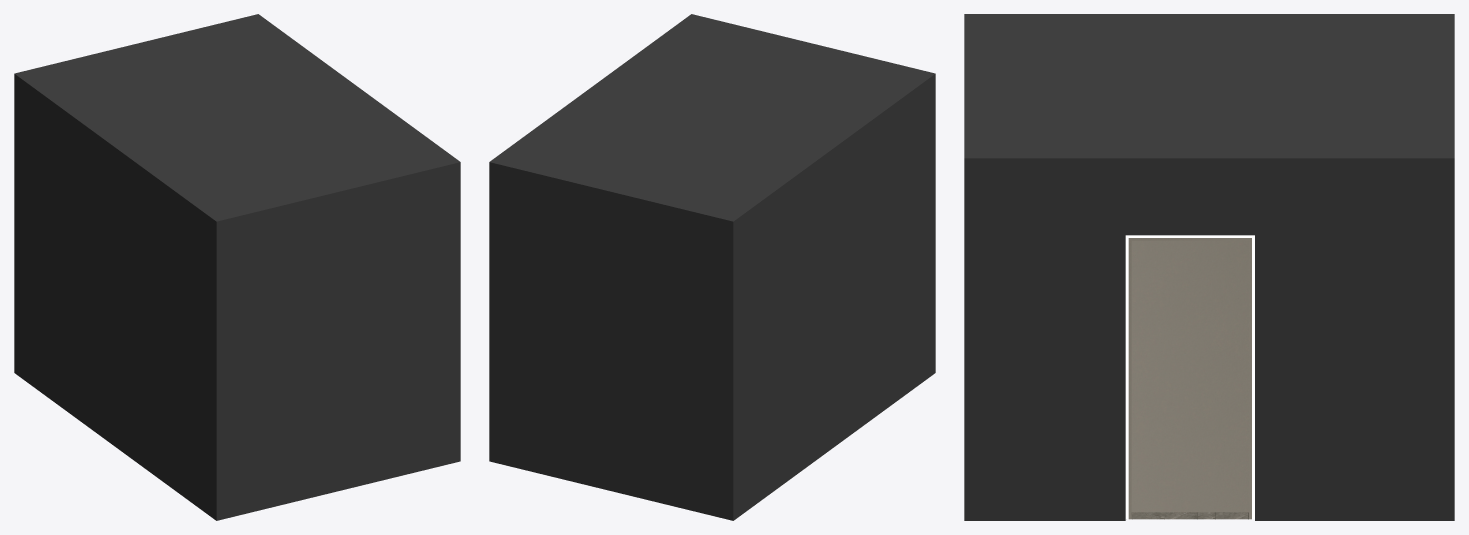
The model's file is bathroom_interior.glb.
3 views of the same model, side by side, from view 1: azimuth 30°, elevation 25°; view 2: azimuth 150°, elevation 25°; view 3: azimuth 270°, elevation 25° (orthographic). The views are drawn at different scales.
Visible parts, largest first — view 1: Material2 (×2); view 2: Material2 (×2); view 3: Material2 (×5).
Boxes of the visible parts, x1,y1,x2,y2 form: Material2 (×2): [14, 14, 460, 520]; Material2 (×2): [489, 14, 935, 520]; Material2 (×5): [964, 14, 1454, 520].
Bounding box in the file's own units: 2.59 × 3.05 × 3.71.
80 materials, 54 textured.
